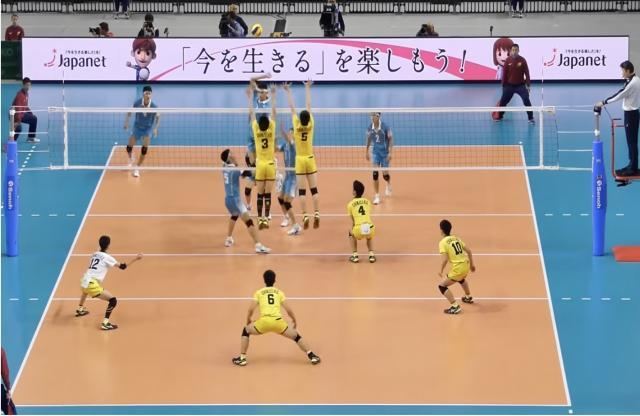block: (280, 74, 328, 235), (243, 82, 280, 231)
